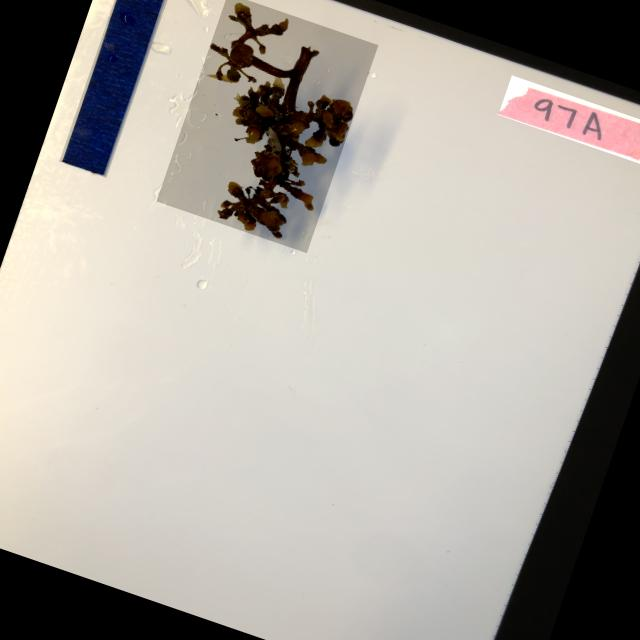index: (498, 75, 640, 167)
measure_label: (58, 0, 179, 177)
rachis_cluster: (156, 0, 378, 253)
